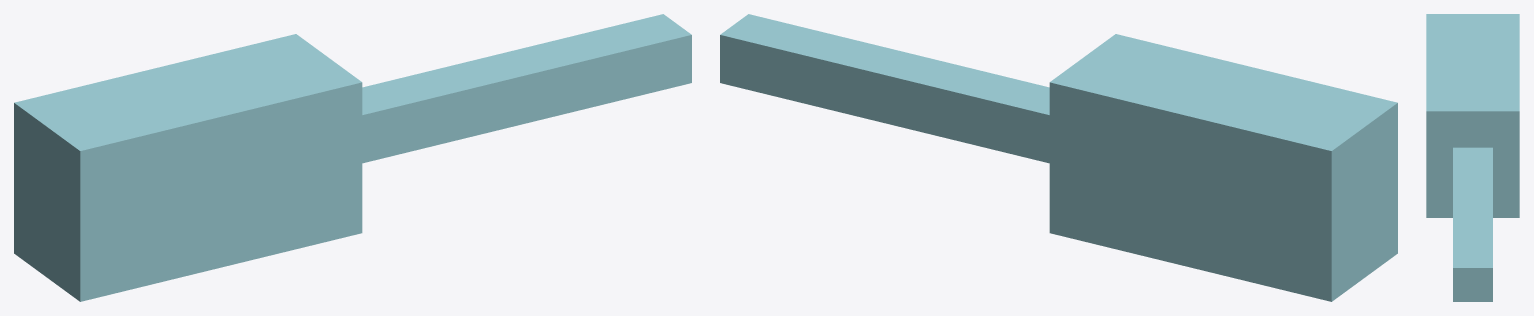
Rendered from cuboid_screwdriver_v2005.obj.
The picture shows the model from 3 angles, left to right: view 1: azimuth 30°, elevation 25°; view 2: azimuth 150°, elevation 25°; view 3: azimuth 270°, elevation 25°; orthographic projection. The views are drawn at different scales.
Bounding box in the file's own units: 0.1703 × 0.0389 × 0.031.
1 material, 1 textured.
